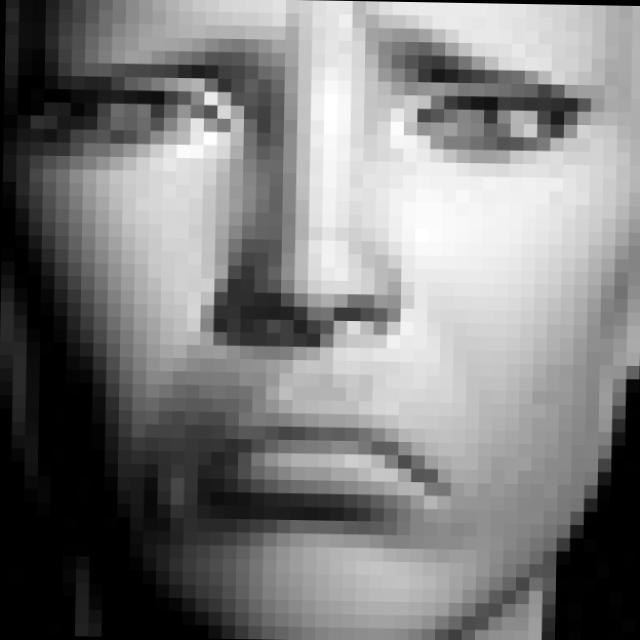sad: (36, 0, 609, 547)
